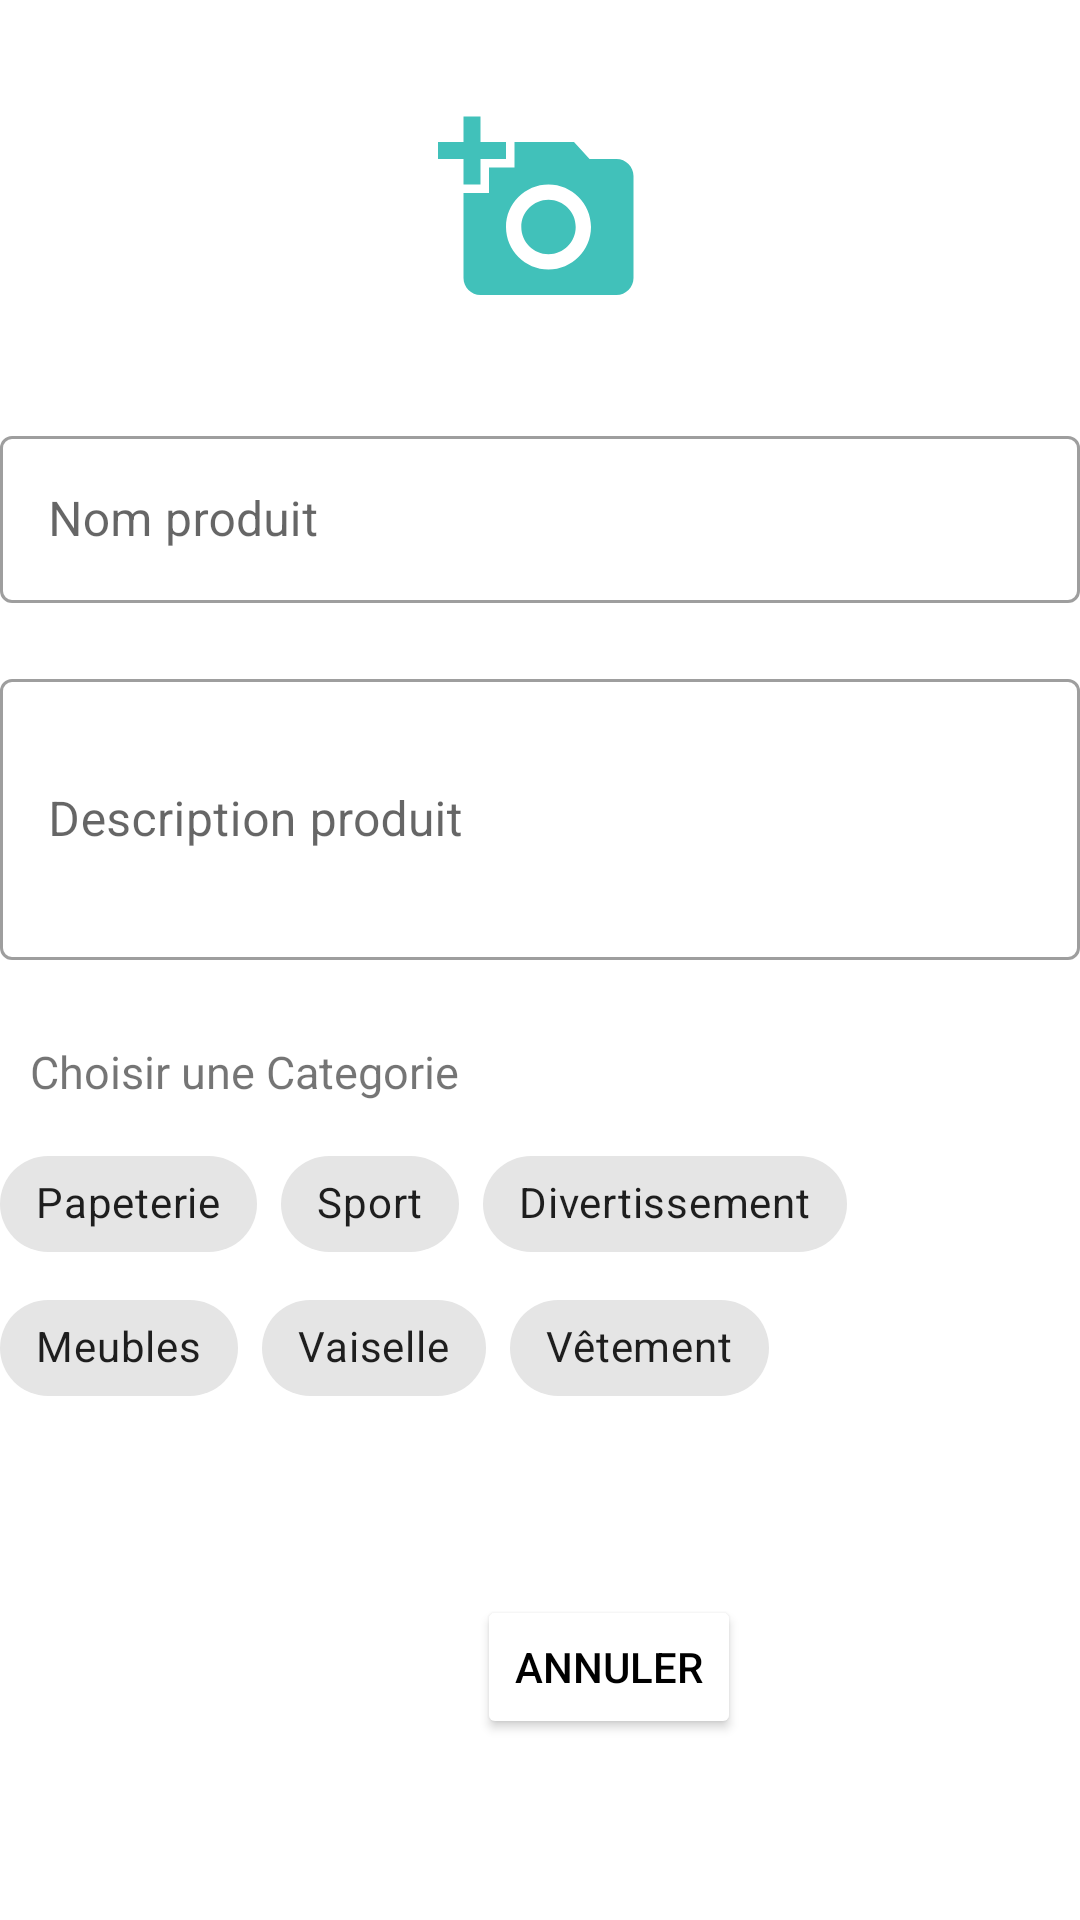

Locate icon controls on the screen. Image size 1080px×1920px, boxes as [x1, y1, x2, y2].
ajout produit: [438, 116, 634, 295]
